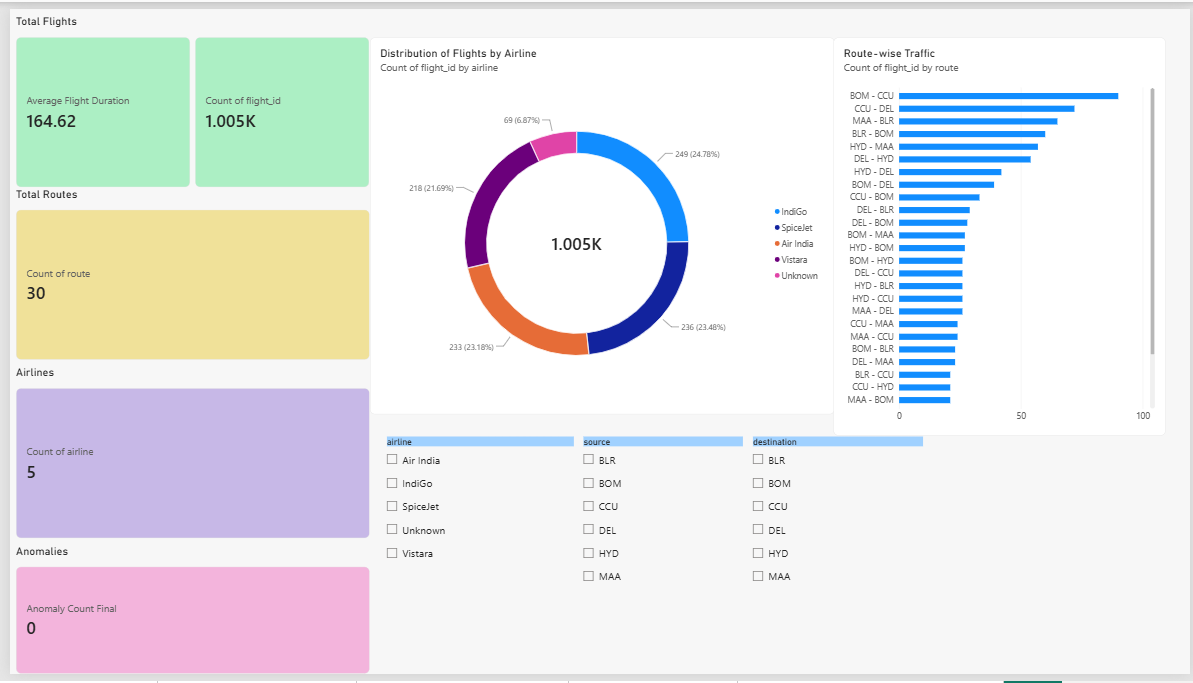

What the dashboard file says about the page in this screenshot:
{"tool":"powerbi","page":{"name":"Executive Overview","canvas":[1920,1080],"ordinal":0},"visuals":[{"type":"cardVisual","title":"Total Flights","fields":{"Data":["final_flights.Average Flight Duration","CountNonNull(final_flights.flight_id)"]},"box":[10,10,575,280],"z":0},{"type":"cardVisual","title":"Total Routes","fields":{"Data":["Count(final_flights.route)"]},"box":[10,290,575,280],"z":1000},{"type":"cardVisual","title":"Airlines","fields":{"Data":["Count(final_flights.airline)"]},"box":[10,580,575,280],"z":2000},{"type":"cardVisual","title":"Anomalies","fields":{"Data":["final_flights.Anomaly Count Final"]},"box":[10,870,575,210],"z":3000},{"type":"donutChart","title":"Distribution of Flights by Airline","fields":{"Category":["final_flights.airline"],"Y":["CountNonNull(final_flights.flight_id)"]},"box":[585,47.5,755,612.5],"z":5000},{"type":"clusteredBarChart","title":"Route-wise Traffic","fields":{"Category":["final_flights.route"],"Y":["CountNonNull(final_flights.flight_id)"]},"box":[1340,47.5,540,647.5],"z":6000},{"type":"slicer","fields":{"Values":["final_flights.airline"]},"box":[605,695,320,340],"z":7000},{"type":"slicer","fields":{"Values":["final_flights.source"]},"box":[925,695,275,280],"z":8000},{"type":"slicer","fields":{"Values":["final_flights.destination"]},"box":[1200,695,292.5,280],"z":9000}]}

Visuals, with their boxes in screenshot pixels (x1, y1, x2, y2), scaled from the page's 1920x1080 canvas onto the 1193x683 screenshot:
"Total Flights" cardVisual: locate(6, 6, 363, 183)
"Total Routes" cardVisual: locate(6, 183, 363, 360)
"Airlines" cardVisual: locate(6, 367, 363, 544)
"Anomalies" cardVisual: locate(6, 550, 363, 682)
"Distribution of Flights by Airline" donutChart: locate(363, 30, 833, 417)
"Route-wise Traffic" clusteredBarChart: locate(833, 30, 1168, 440)
slicer - final_flights.airline: locate(376, 440, 575, 655)
slicer - final_flights.source: locate(575, 440, 746, 617)
slicer - final_flights.destination: locate(746, 440, 927, 617)
